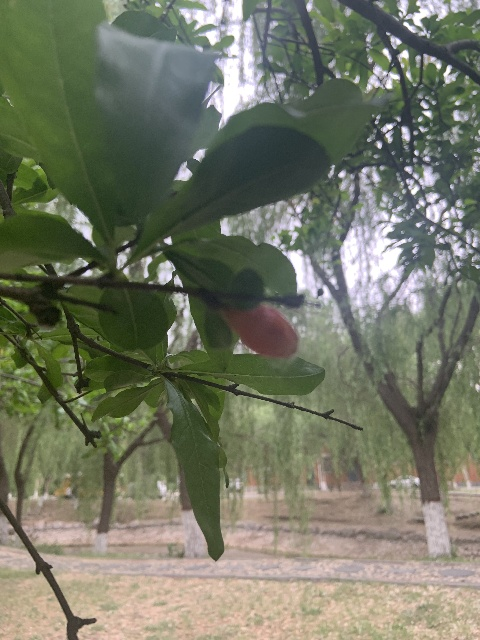bud: (226, 304, 298, 359)
